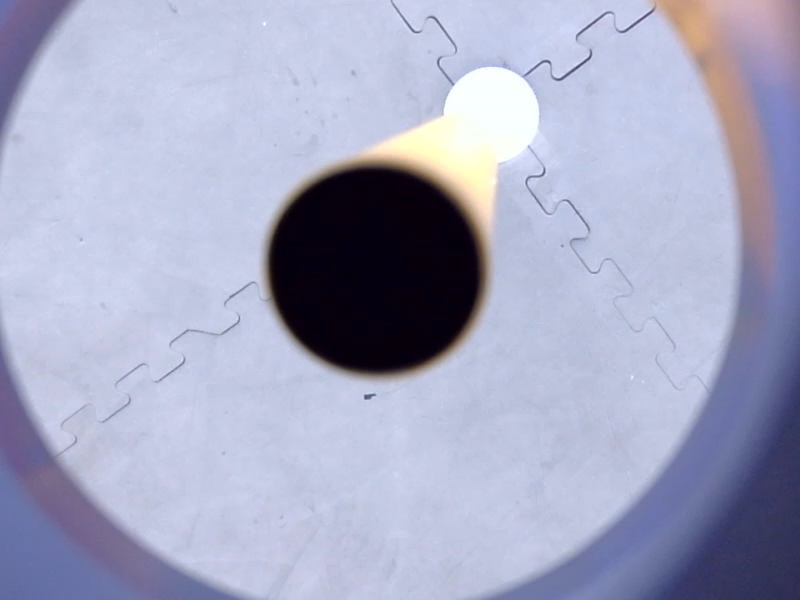tip: (259, 149, 496, 386)
